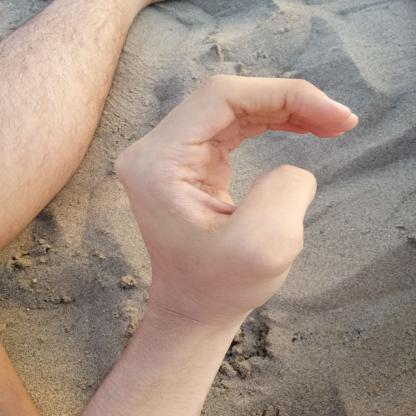JEEM: (94, 63, 381, 335)
